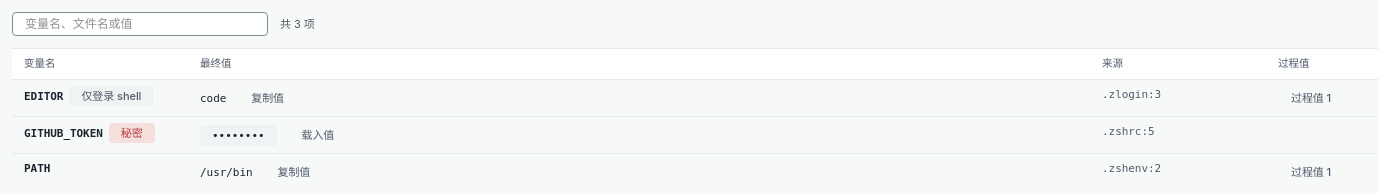
Test: variable search list › states that nothing matches
This screenshot has width=1378, height=194.
Type "nothing-like-this" into the search field named "搜索变量" at {"x": 140, "y": 24}, box [12, 12, 268, 36]
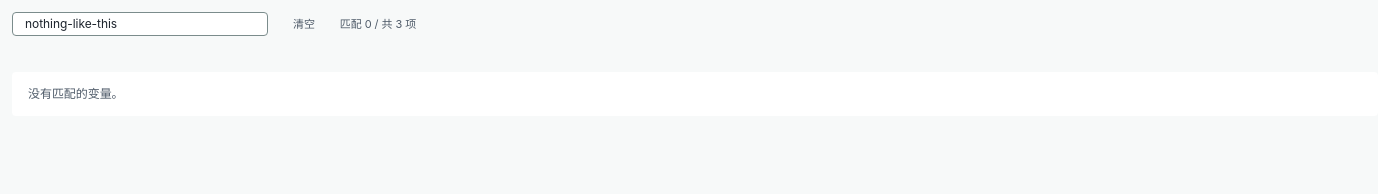
Expected: the text "没有匹配的变量。" is shown, [12, 72, 1377, 116]
